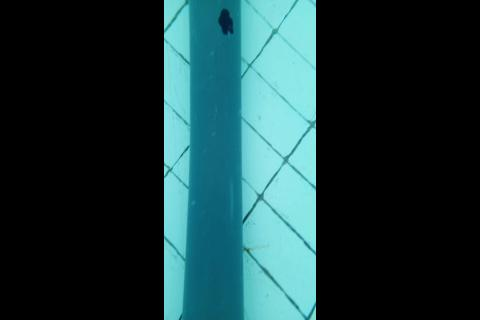kebocoran: (217, 7, 234, 36)
